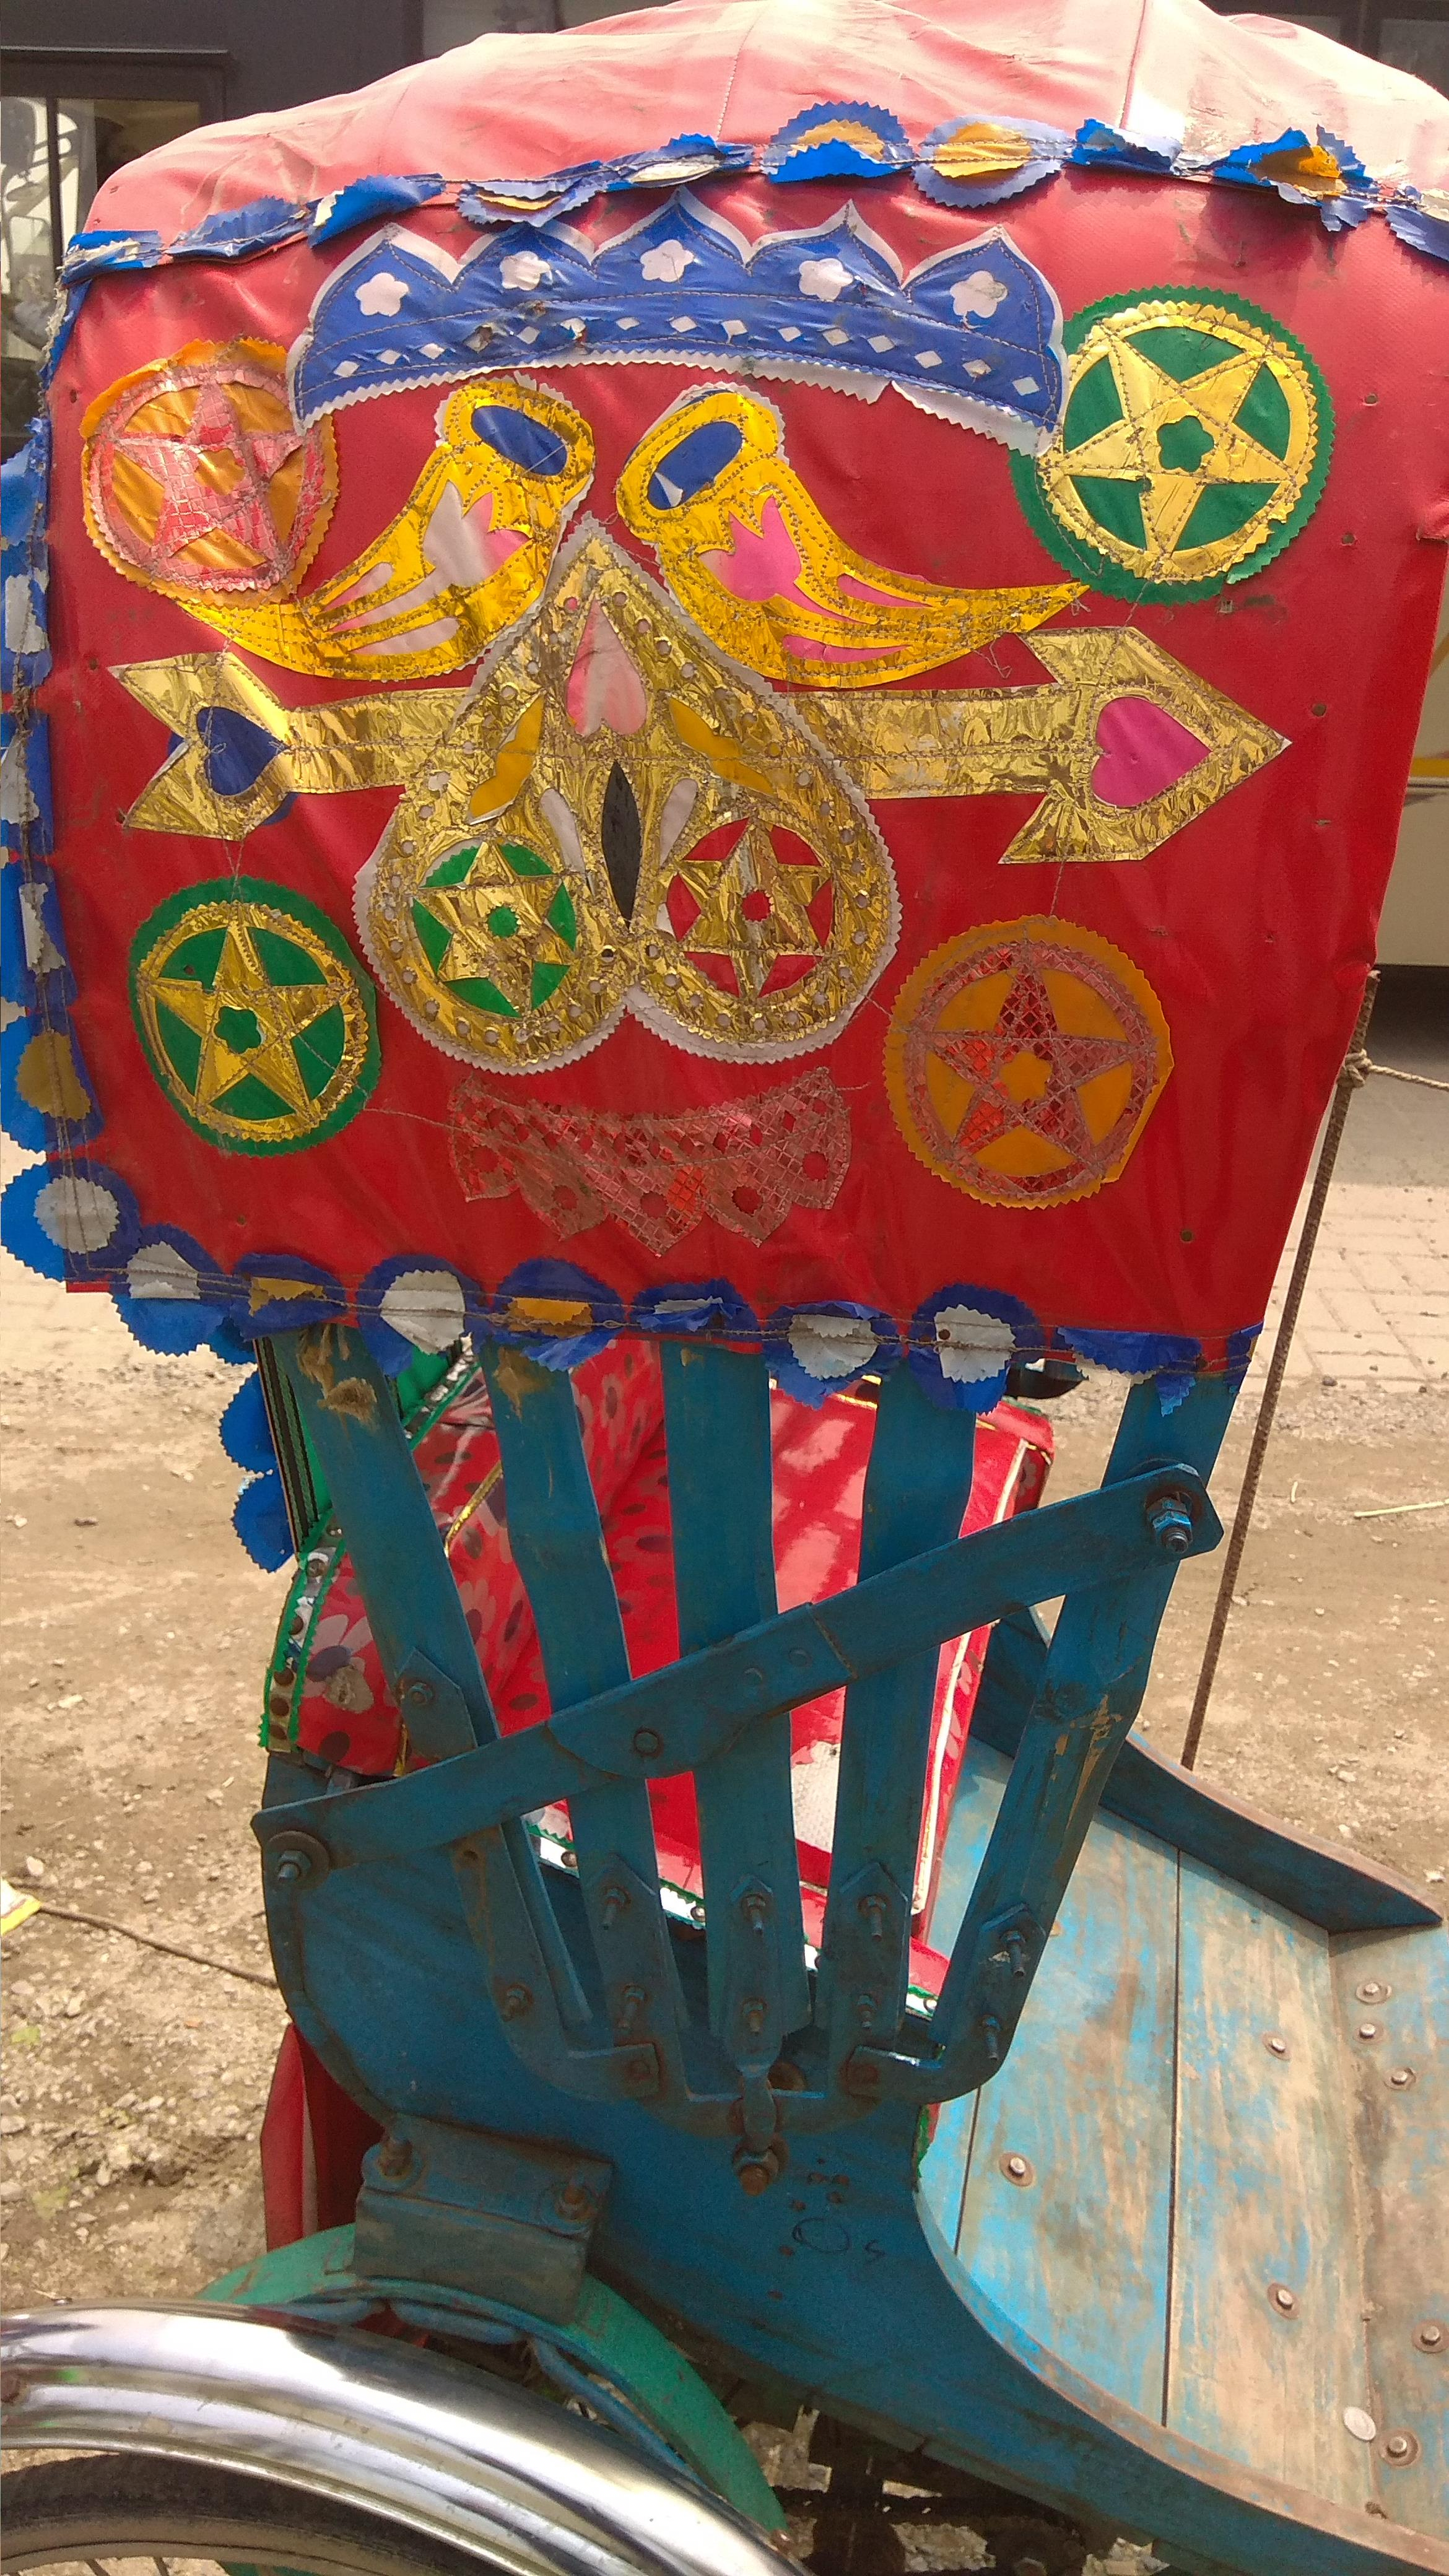Rickshaw: (23, 30, 1440, 2477)
